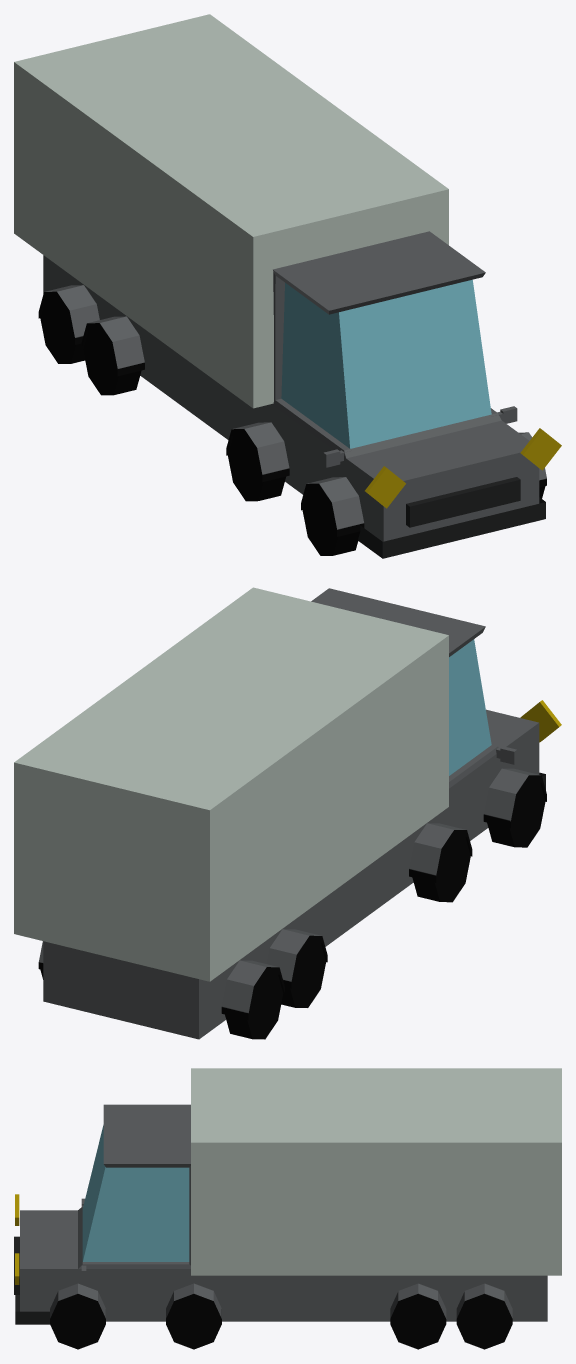
File: fura.fbx
3 renders of one model, top to bottom at view 1: azimuth 30°, elevation 25°; view 2: azimuth 150°, elevation 25°; view 3: azimuth 270°, elevation 25°, orthographic. The views are drawn at different scales.
Visible parts, largest first — view 1: fura; view 2: fura; view 3: fura.
Part boxes in pixels (<box>): fura: <box>14,14,561,558</box>; fura: <box>14,587,561,1039</box>; fura: <box>14,1068,561,1349</box>.
Bounding box in the file's own units: 324 × 389 × 943.
